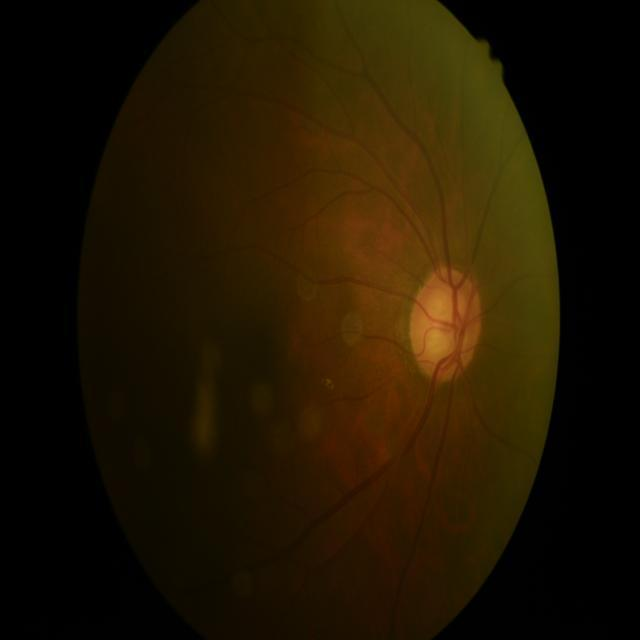cup: (424, 285, 472, 365)
disk: (408, 267, 484, 384)
